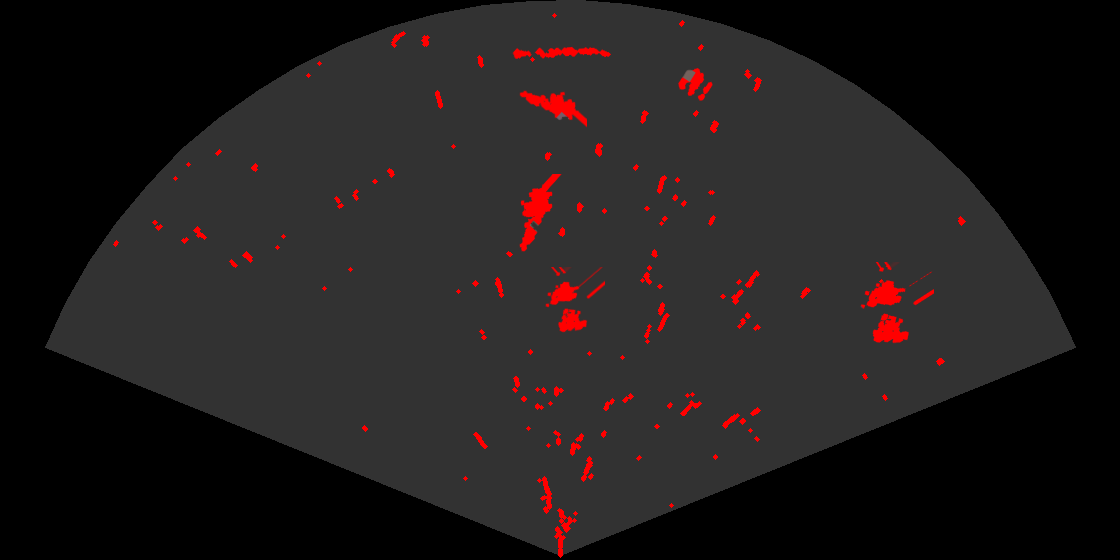ball: (677, 66, 714, 102)
cage: (859, 262, 934, 345), (544, 267, 605, 334)
chain: (510, 45, 611, 60)
frogman: (518, 174, 563, 253), (518, 89, 587, 129)
